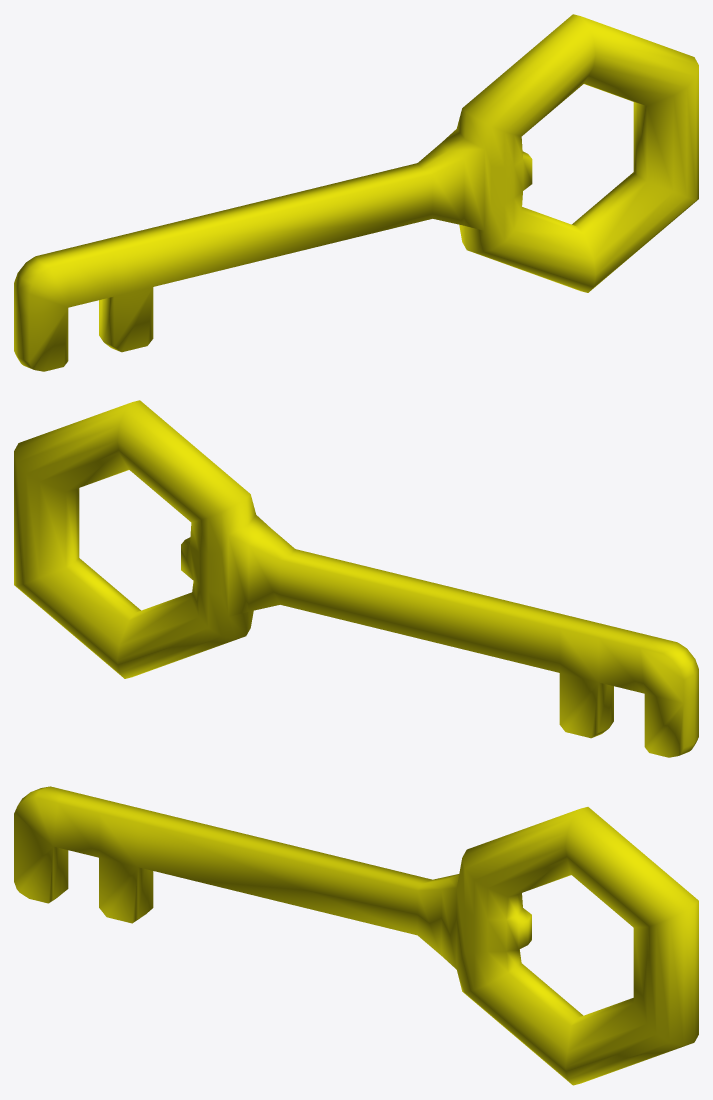
Rendered from chaviadaedecadeias.fbx.
3 views of the same model, one above another, from view 1: azimuth 30°, elevation 25°; view 2: azimuth 150°, elevation 25°; view 3: azimuth 330°, elevation 25° (orthographic).
Visible parts, largest first — view 1: Torus; view 2: Torus; view 3: Torus.
Part boxes in pixels (x1=…): Torus: x1=14, y1=14, x2=698, y2=371; Torus: x1=14, y1=400, x2=698, y2=757; Torus: x1=14, y1=786, x2=698, y2=1085.
Size of the model in its own units: 643 by 250 by 50.
